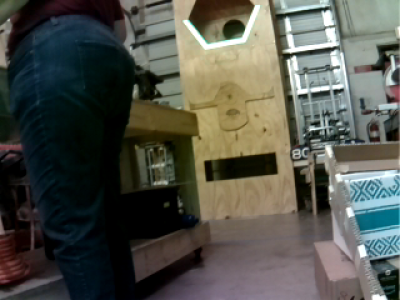target: (182, 5, 262, 49)
